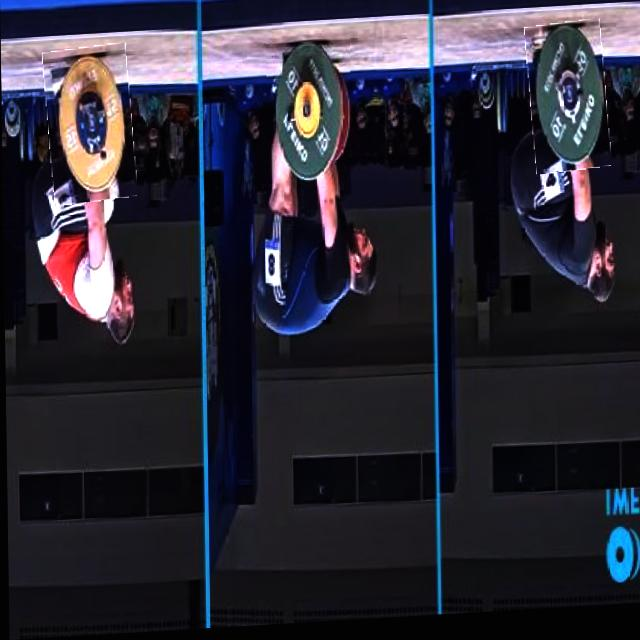barbell: (45, 46, 135, 206), (266, 35, 353, 193), (527, 28, 609, 182)
